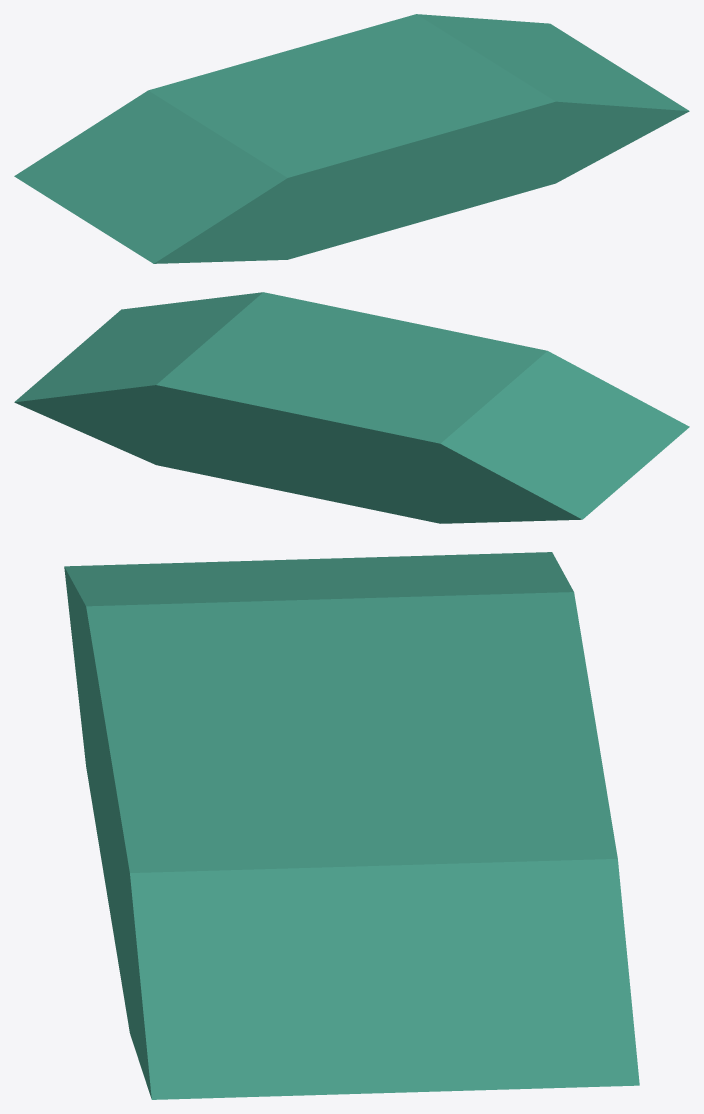
Rendered from Pillow_3.fbx.
3 renders of one model, top to bottom at view 1: azimuth 30°, elevation 25°; view 2: azimuth 150°, elevation 25°; view 3: azimuth 270°, elevation 25°, orthographic. The views are drawn at different scales.
Visible parts, largest first — view 1: Pillow_3; view 2: Pillow_3; view 3: Pillow_3.
Boxes of the visible parts, x1,y1,x2,y2 form: Pillow_3: [14, 14, 689, 263]; Pillow_3: [14, 292, 689, 523]; Pillow_3: [64, 552, 639, 1099].
Size of the model in its own units: 129 by 57.27 by 17.59.
